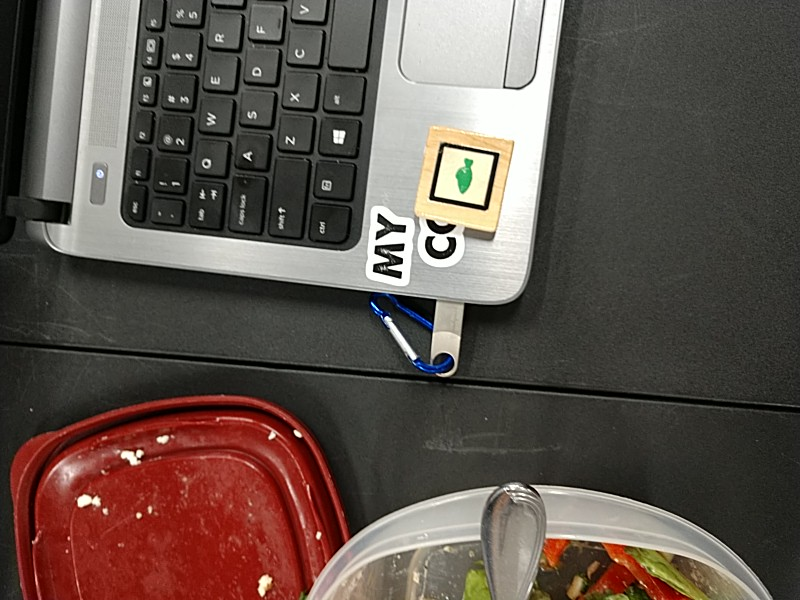Fish Tile: (428, 140, 500, 212)
